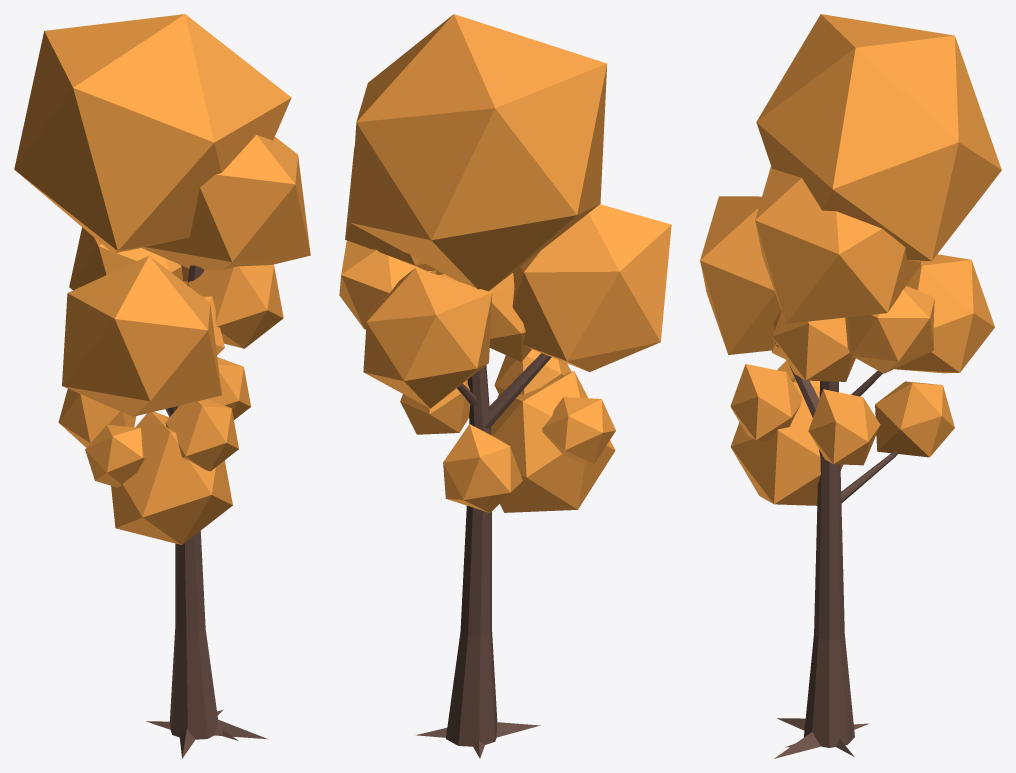
The model's file is AutumnTree_06.fbx.
3 views of the same model, side by side, from view 1: azimuth 30°, elevation 25°; view 2: azimuth 150°, elevation 25°; view 3: azimuth 270°, elevation 25° (orthographic). The views are drawn at different scales.
Parts seen in each view (by area): view 1: AutumnTree_06; view 2: AutumnTree_06; view 3: AutumnTree_06.
Part boxes in pixels (left/top/right/bottom): AutumnTree_06: left=14, top=14, right=310, bottom=758; AutumnTree_06: left=339, top=14, right=671, bottom=758; AutumnTree_06: left=700, top=14, right=1001, bottom=758.
Size of the model in its own units: 401 by 1015 by 402.
